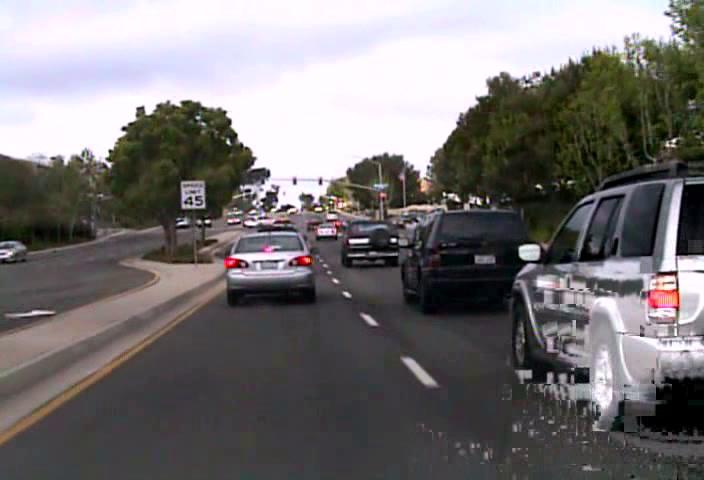speedLimit45: (180, 179, 206, 209)
